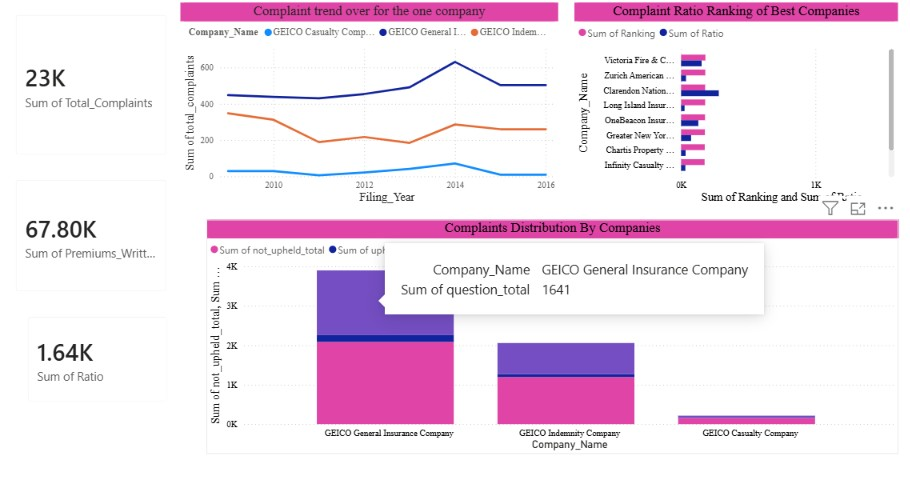

This screenshot's page, from the dashboard's own definition file:
{"tool":"powerbi","page":{"name":"Page 1","canvas":[1280,720],"ordinal":0},"visuals":[{"type":"cardVisual","fields":{"Data":["Sum(auto_1.Total_Complaints)"]},"box":[28.8,23.3,241.5,226.4],"z":0},{"type":"cardVisual","fields":{"Data":["Sum(auto_1.Premiums_Written)"]},"box":[28.8,249.7,241.5,188],"z":1000},{"type":"cardVisual","fields":{"Data":["Sum(auto_1.Ratio)"]},"box":[45.3,437.7,225,150.9],"z":2000},{"type":"lineChart","title":"Complaint trend over for the one company","fields":{"Category":["auto_3(b).Filing_Year"],"Series":["auto_3(b).Company_Name"],"Y":["Sum(auto_3(b).total_complaints)"]},"box":[271.4,22.9,518.6,280],"z":3000},{"type":"clusteredBarChart","title":"Complaint Ratio Ranking of Best Companies","fields":{"Category":["auto_4.Company_Name"],"Y":["Sum(auto_4.Ranking)","Sum(auto_4.Ratio)"]},"box":[812.9,22.9,444.3,280],"z":4000},{"type":"columnChart","title":"Complaints Distribution  By Companies","fields":{"Category":["auto_2(b).Company_Name"],"Y":["Sum(auto_2(b).not_upheld_total)","Sum(auto_2(b).upheld_total)","Sum(auto_2(b).question_total)"]},"box":[307.1,321.4,950,321.4],"z":5000}]}

Visuals, with their boxes on the page's 1280x720 design canvas (x1, y1, x2, y2). These are canvas units, not pixel positions in the 910x487 screenshot, which may show the page scaled, cropped or inside an application window:
cardVisual - Sum(auto_1.Total_Complaints): select_region(29, 23, 270, 250)
cardVisual - Sum(auto_1.Premiums_Written): select_region(29, 250, 270, 438)
cardVisual - Sum(auto_1.Ratio): select_region(45, 438, 270, 589)
"Complaint trend over for the one company" lineChart: select_region(271, 23, 790, 303)
"Complaint Ratio Ranking of Best Companies" clusteredBarChart: select_region(813, 23, 1257, 303)
"Complaints Distribution  By Companies" columnChart: select_region(307, 321, 1257, 643)
